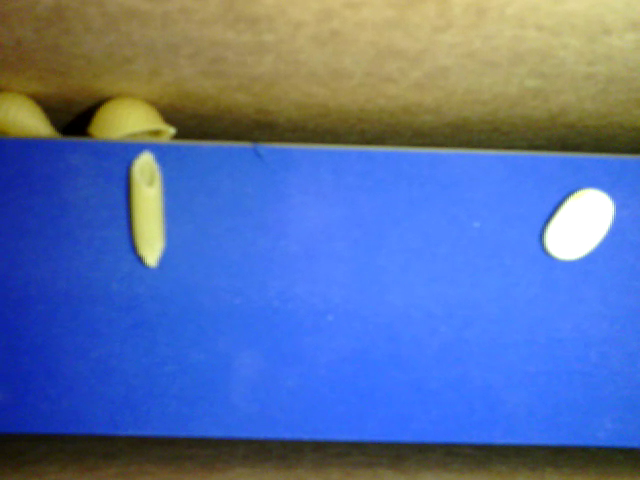penne: (127, 145, 168, 268)
shell: (85, 94, 172, 140), (1, 89, 65, 134)
